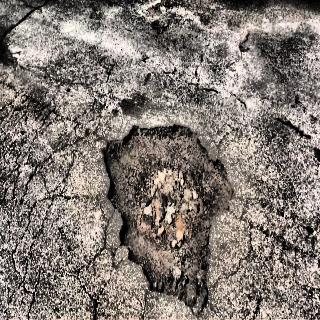alligator-crack: (0, 101, 103, 320)
pothole: (103, 114, 235, 315)
